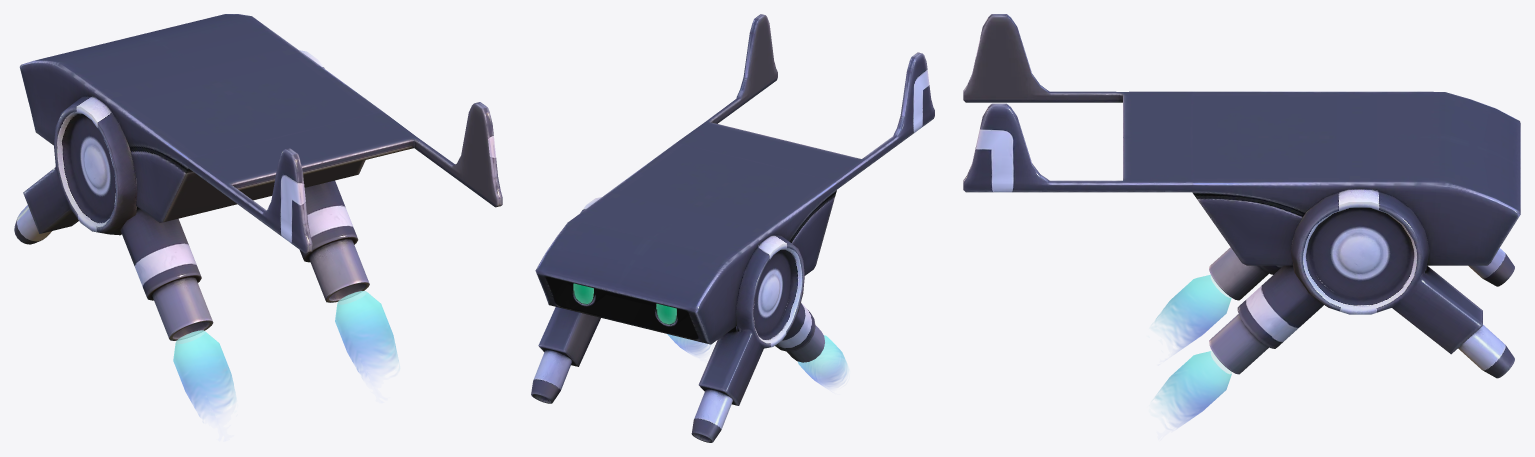
Rendered from get3d-drone.glb.
3 renders of one model, left to right at view 1: azimuth 30°, elevation 25°; view 2: azimuth 150°, elevation 25°; view 3: azimuth 270°, elevation 25°, orthographic. The views are drawn at different scales.
Visible parts, largest first — view 1: Box001_Material #4_0, Object002_Material #5_0; view 2: Box001_Material #4_0, Object002_Material #5_0; view 3: Box001_Material #4_0, Object002_Material #5_0.
Boxes of the visible parts, x1,y1,x2,y2 form: Box001_Material #4_0: (14, 14, 502, 340); Object002_Material #5_0: (173, 291, 398, 418); Box001_Material #4_0: (531, 14, 934, 442); Object002_Material #5_0: (667, 334, 848, 388); Box001_Material #4_0: (963, 14, 1520, 378); Object002_Material #5_0: (1154, 274, 1231, 427).
Size of the model in its own units: 1.48 by 2.21 by 3.27.
Materials: 2 (2 with a texture image).
